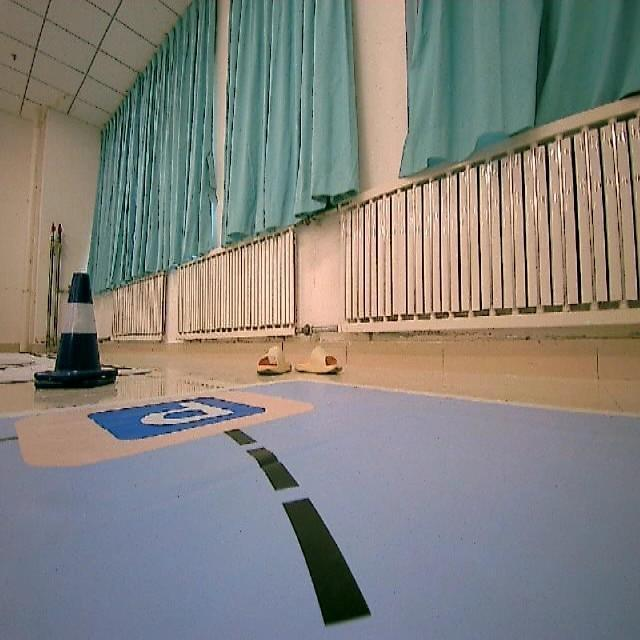obstacle: (26, 270, 126, 398)
